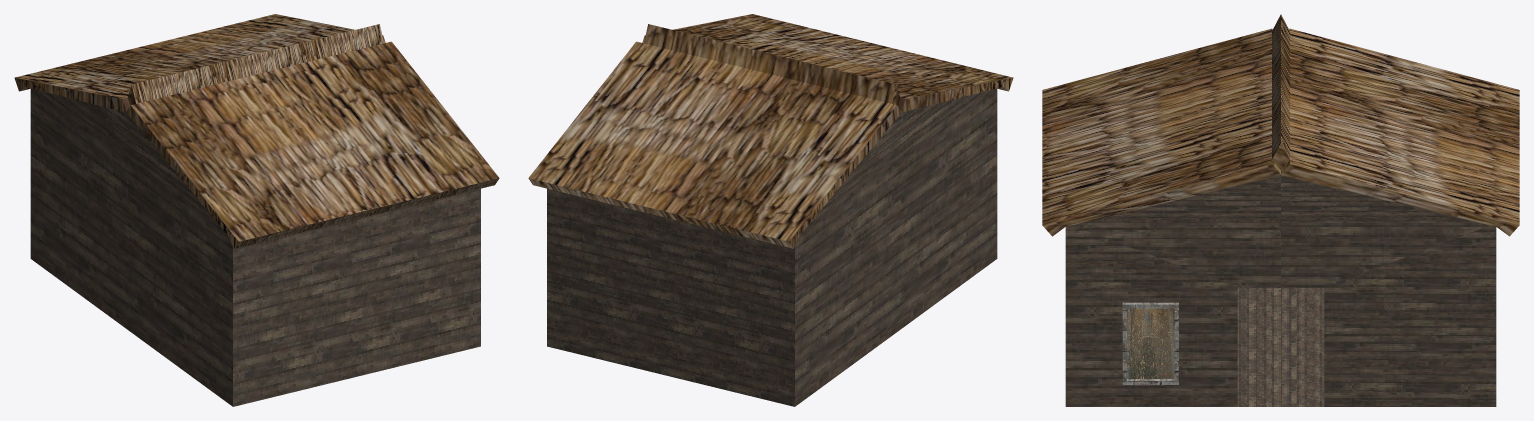
Rendered from FirstShackDraft 1.fbx.
3 renders of one model, left to right at view 1: azimuth 30°, elevation 25°; view 2: azimuth 150°, elevation 25°; view 3: azimuth 270°, elevation 25°, orthographic. The views are drawn at different scales.
Visible parts, largest first — view 1: Cube; view 2: Cube; view 3: Cube.
Boxes of the visible parts, x1,y1,x2,y2 form: Cube: (14,14,499,406); Cube: (528,14,1013,406); Cube: (1042,14,1519,406).
Bounding box in the file's own units: 752 × 683 × 1119.
